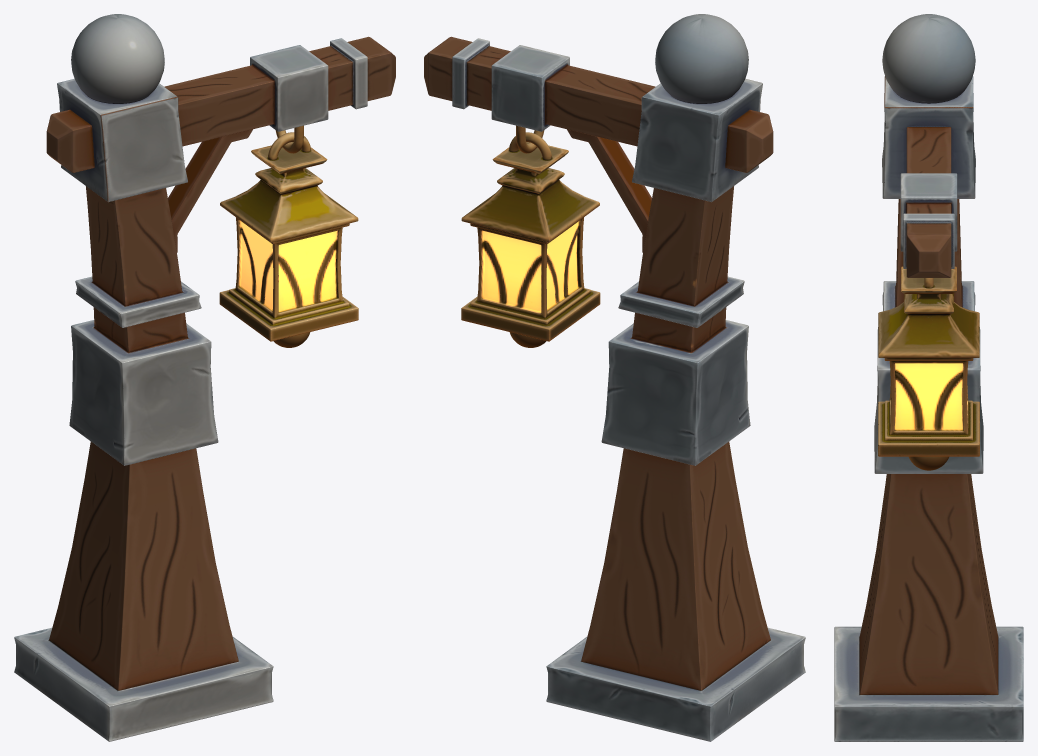
The model's file is Mum4.glb.
3 views of the same model, side by side, from view 1: azimuth 30°, elevation 25°; view 2: azimuth 150°, elevation 25°; view 3: azimuth 270°, elevation 25° (orthographic).
Parts seen in each view (by area): view 1: LP; view 2: LP; view 3: LP.
Part boxes in pixels (x1,y1,x2,y2): LP: (14,14,395,741); LP: (424,14,805,741); LP: (834,14,1023,741).
Bounding box in the file's own units: 244 × 464 × 119.
Materials: 1 (1 with a texture image).
